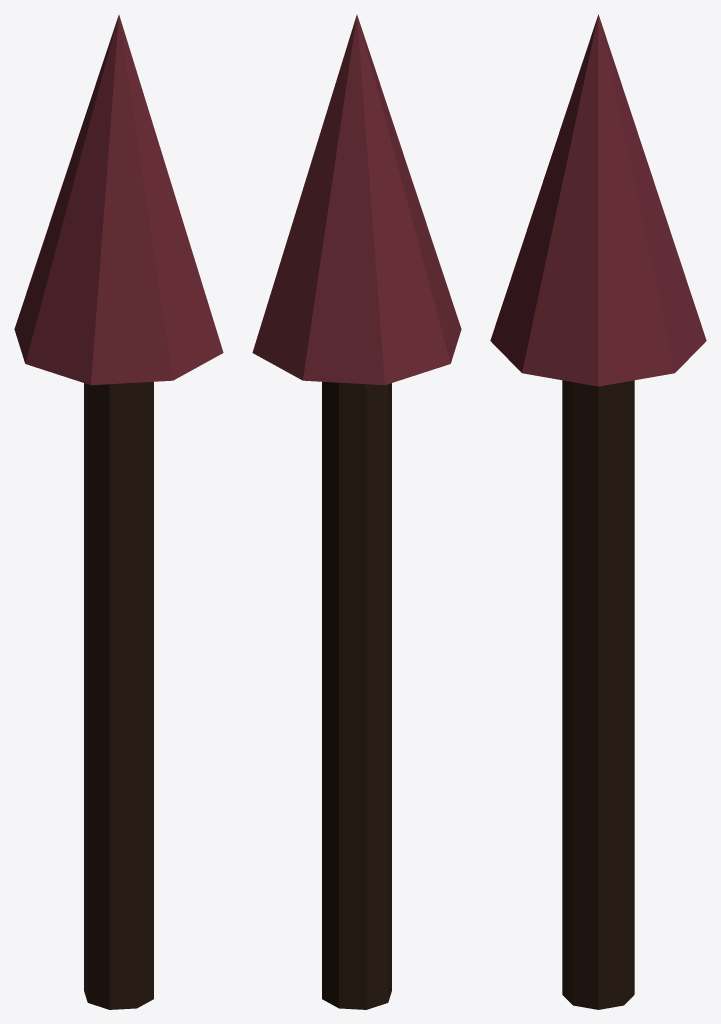
Rendered from Arrow.fbx.
The picture shows the model from 3 angles, left to right: view 1: azimuth 30°, elevation 25°; view 2: azimuth 150°, elevation 25°; view 3: azimuth 270°, elevation 25°; orthographic projection.
Parts seen in each view (by area): view 1: Arrow; view 2: Arrow; view 3: Arrow.
Boxes of the visible parts, <box> form: Arrow: <box>14,15,223,1009</box>; Arrow: <box>252,15,461,1009</box>; Arrow: <box>490,14,706,1009</box>.
Bounding box in the file's own units: 0.3 × 1.5 × 0.3.
